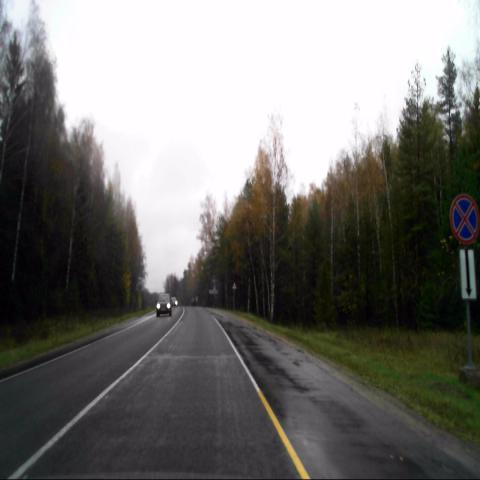3_27: (448, 192, 478, 245)
